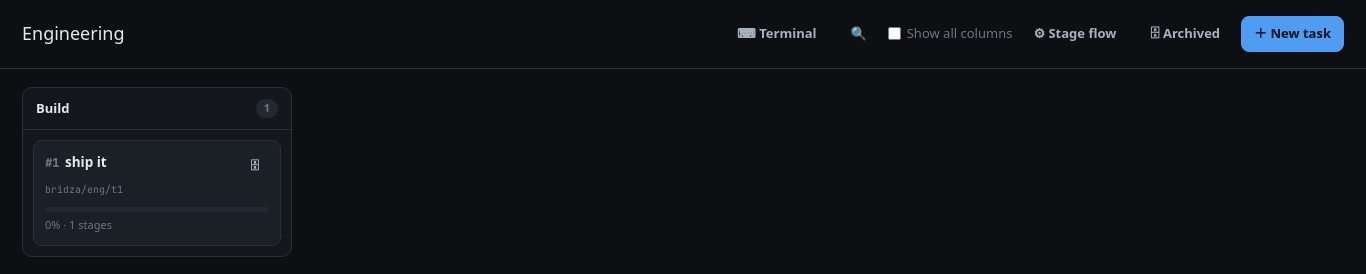
Test: board card tag picker › F does not stack the flow menu on top of an open tag picker
Hover over the element with class "kcard" at (157, 193), box [33,140,281,246]
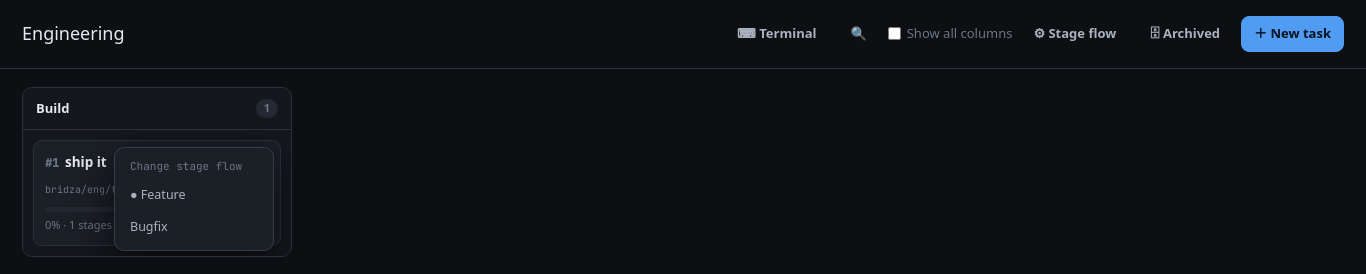
Check: the text "Change stage flow" is shown, box [130,159,242,173]
